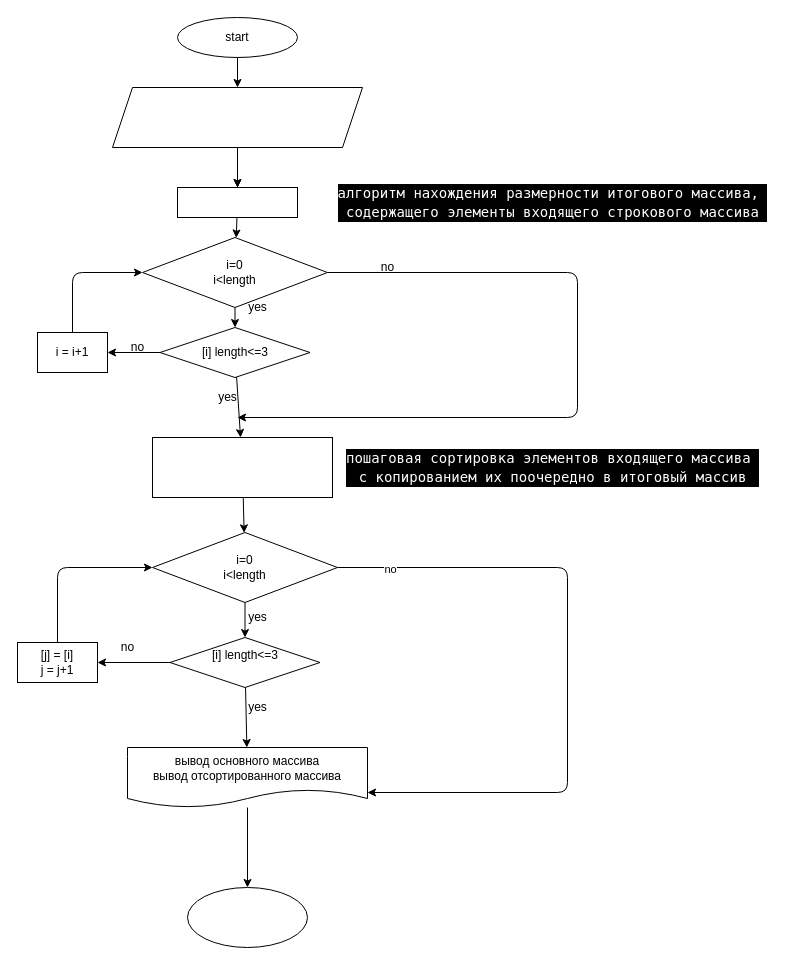
Image size: 795x965. Some labels were removed from this diagram. The shapes that lost their labels are listed below. From the top down, each one's centre as x and y in pixels, then its label:
the point at 237,117: ввод массива
the point at 237,202: resultSize =0
the point at 242,467: resultArrey = new string [ ]
the point at 247,917: end
